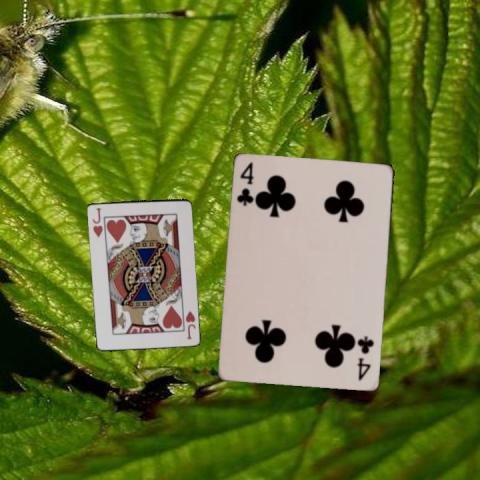4c: (234, 159, 255, 208), (355, 333, 375, 382)
Jh: (89, 205, 104, 238), (182, 308, 196, 340)
